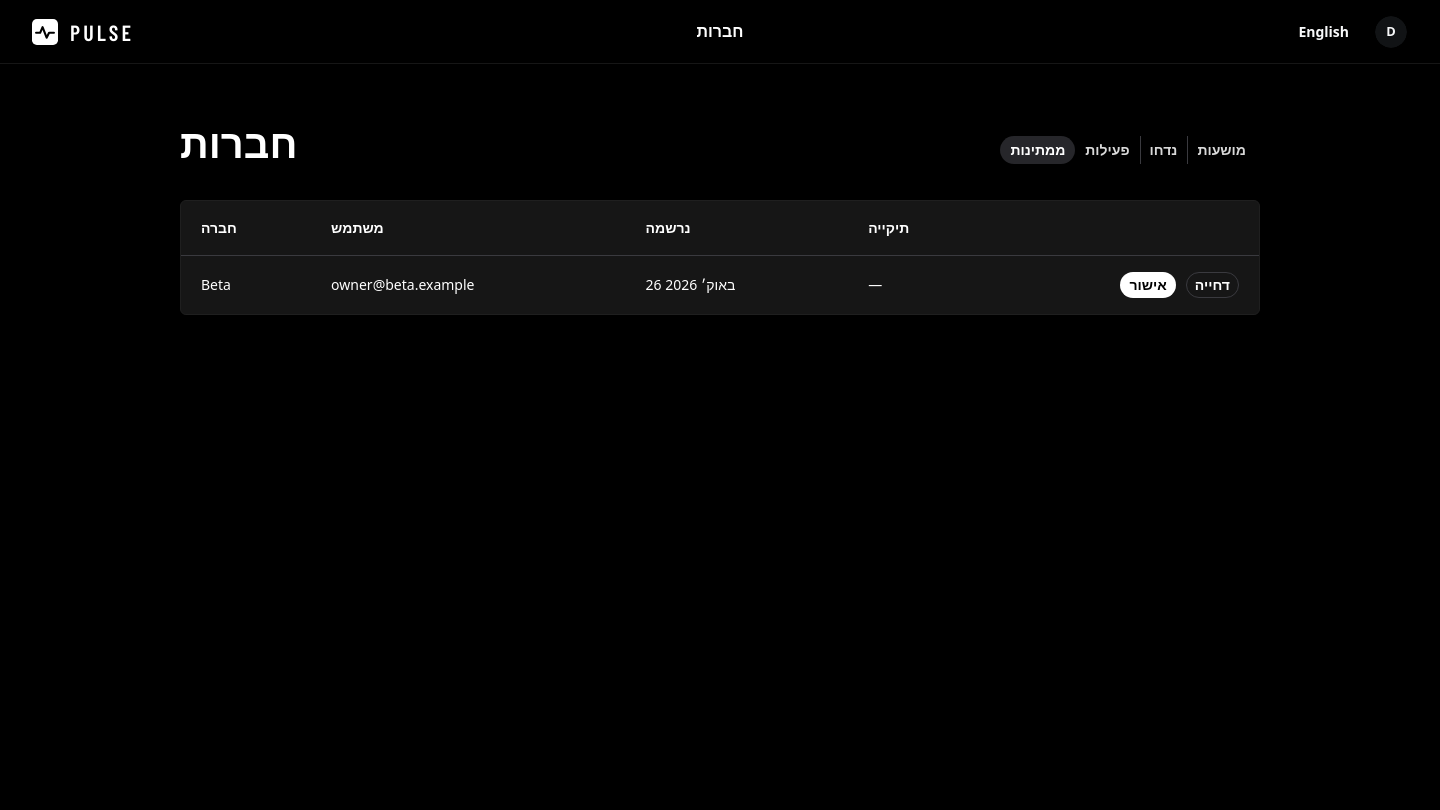
Test: the operator › approves a pending company with a folder name
Check: the text "owner@beta.example" is shown, box [331,275,474,294]
Click the button "אישור": (1148, 285) [1120,272,1176,298]
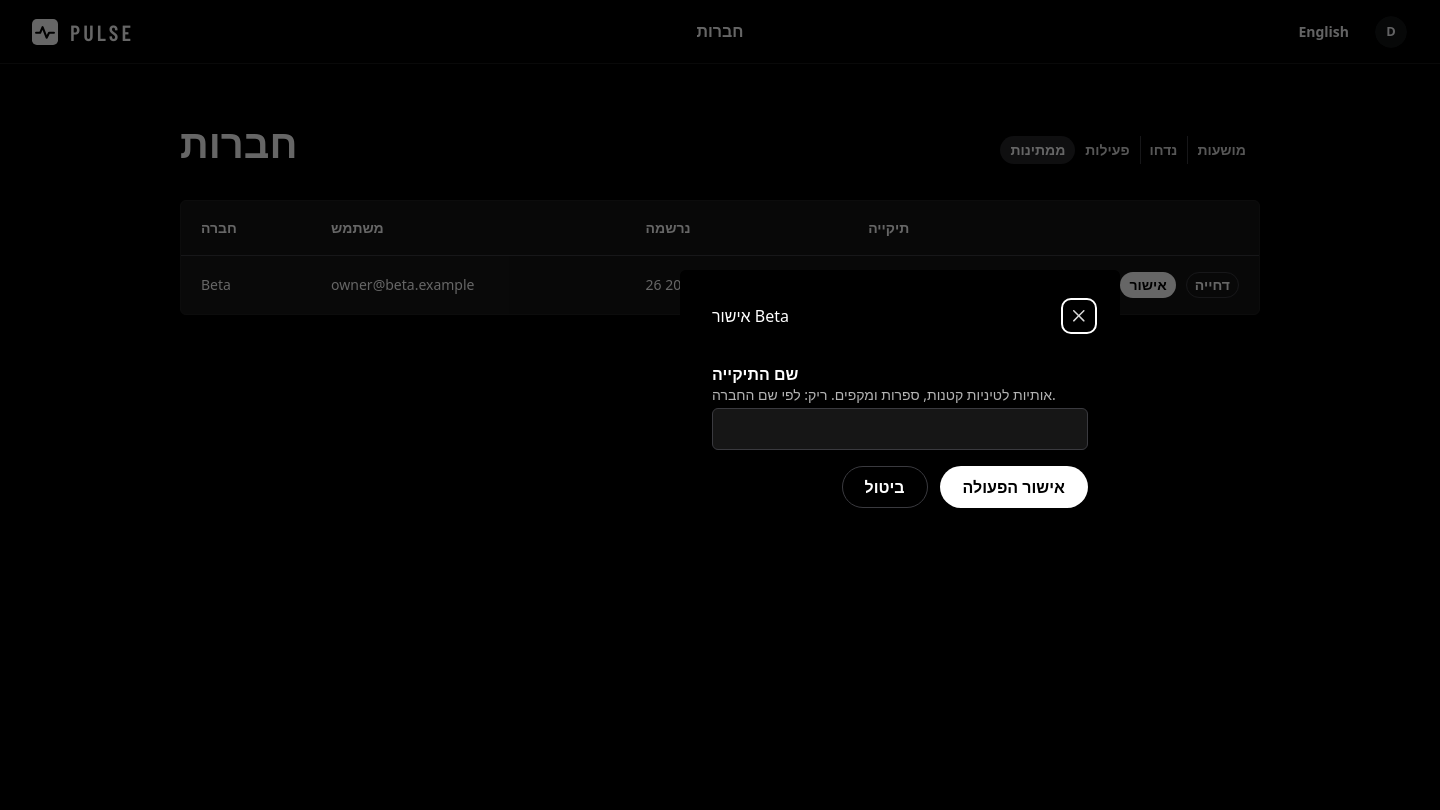
In the field labelled "שם התיקייה": (900, 429) [712,408,1088,450], type "beta"
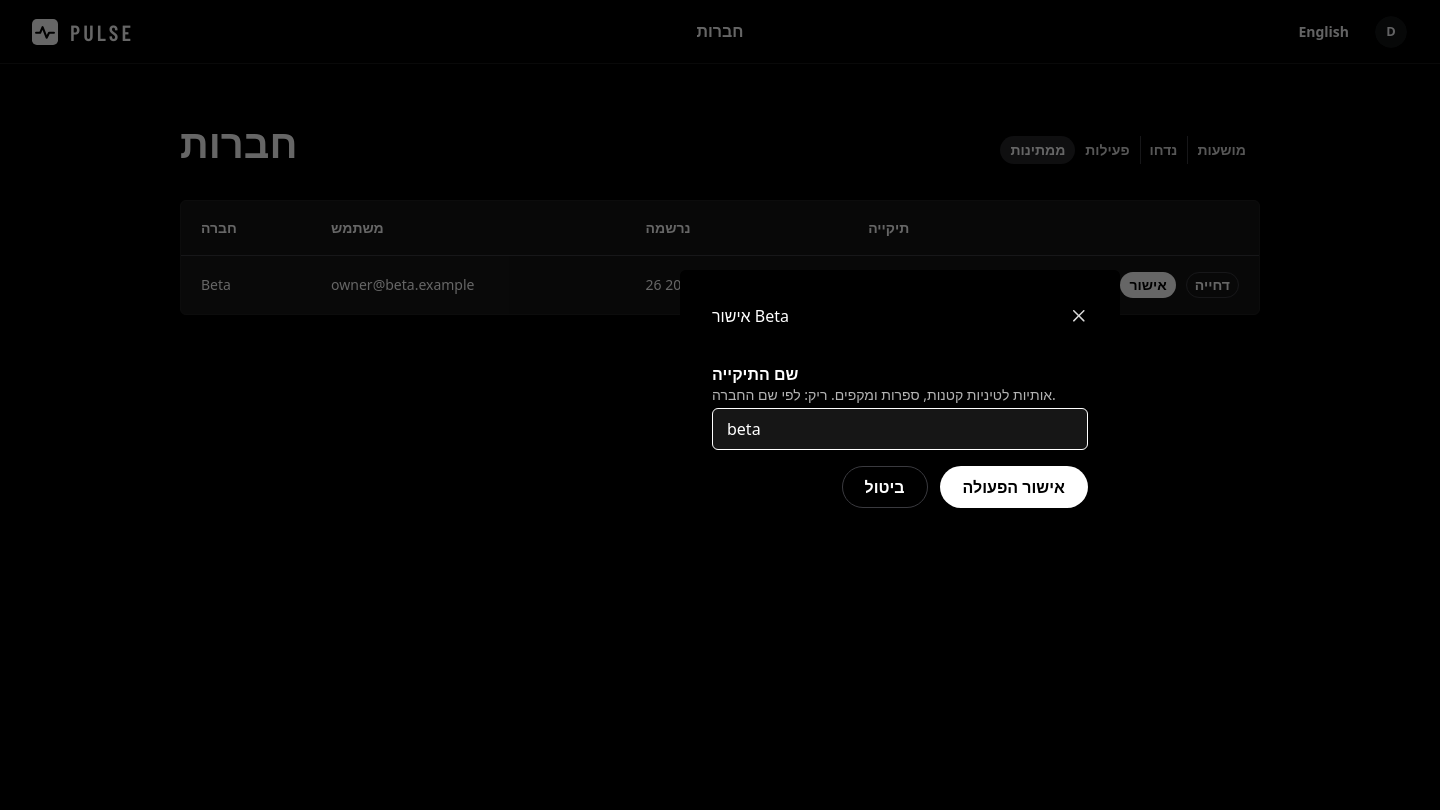
Click the button "אישור הפעולה": (1014, 487) [940,466,1088,508]
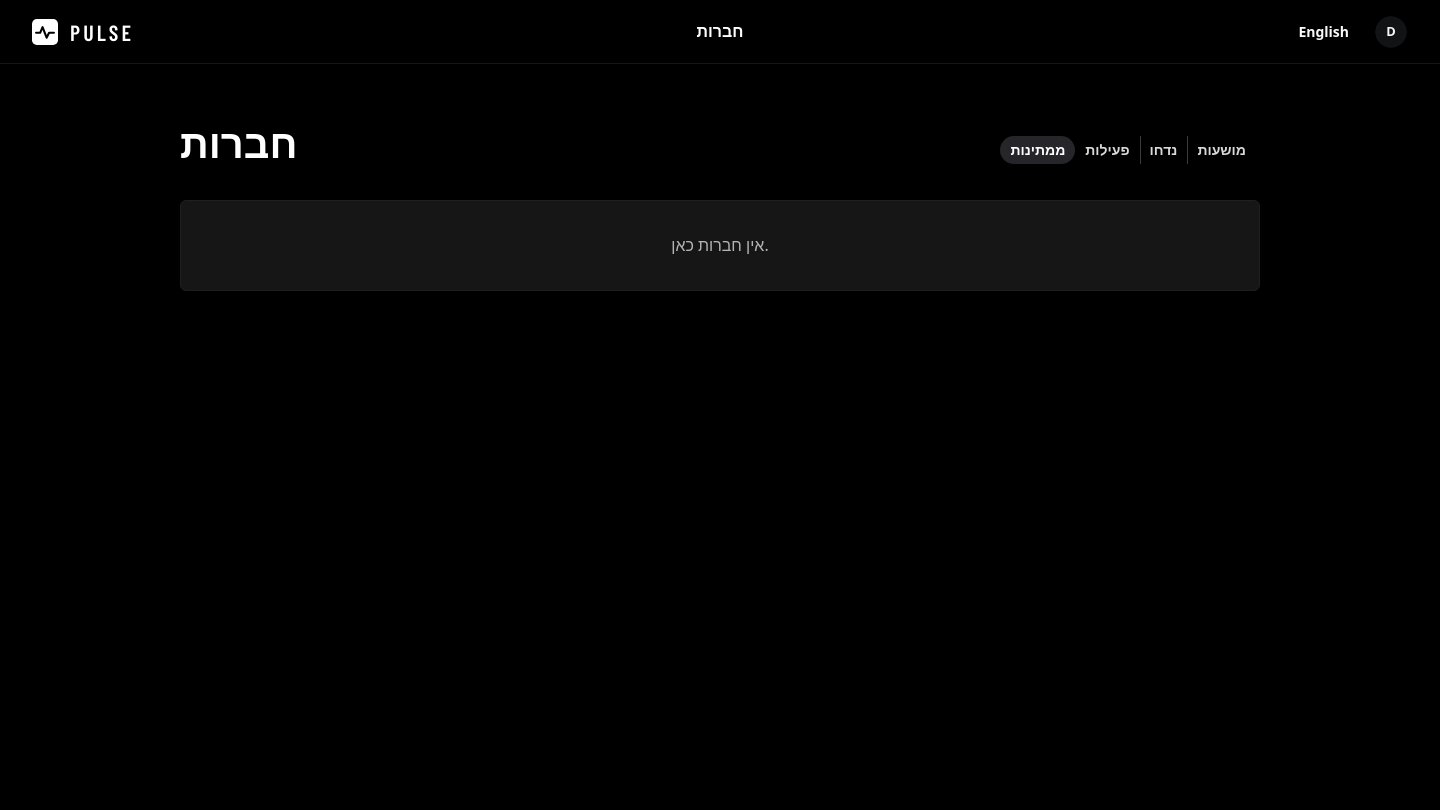
Check: the text "אין חברות כאן." is shown, box [671,234,769,256]
